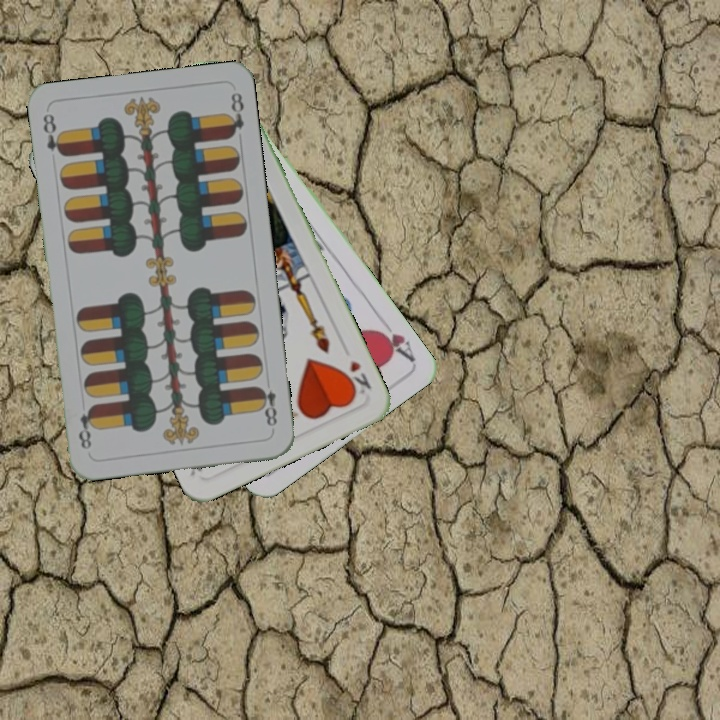E8: (254, 374, 280, 429), (38, 110, 67, 159)
HA: (369, 313, 417, 364)
HK: (339, 356, 374, 398)
